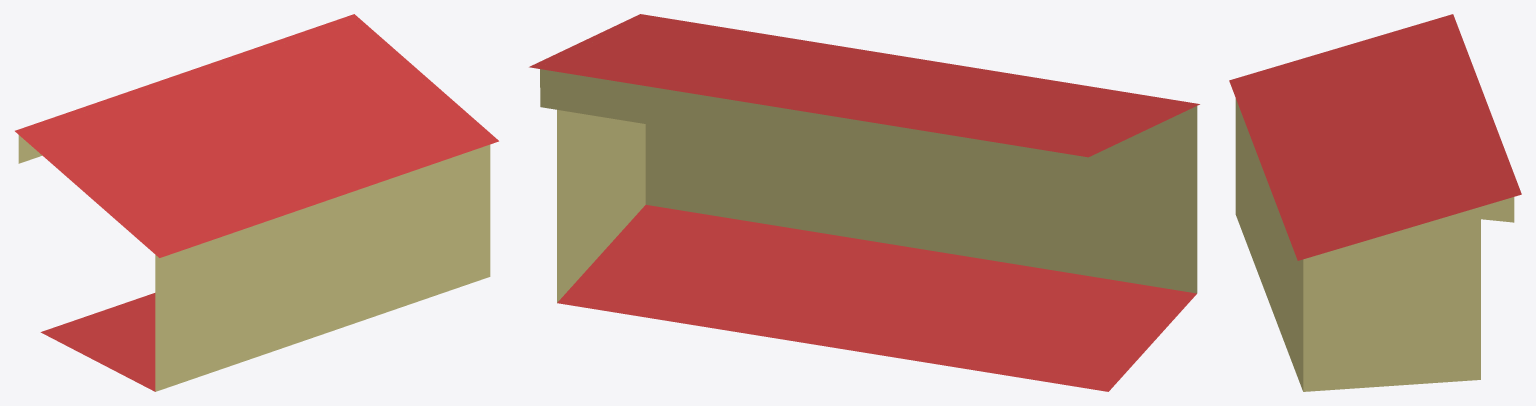
3 views of the same model, side by side, from view 1: azimuth 30°, elevation 25°; view 2: azimuth 150°, elevation 25°; view 3: azimuth 270°, elevation 25° (orthographic). The views are drawn at different scales.
Size of the model in its own units: 17.68 by 11.18 by 7.81.
